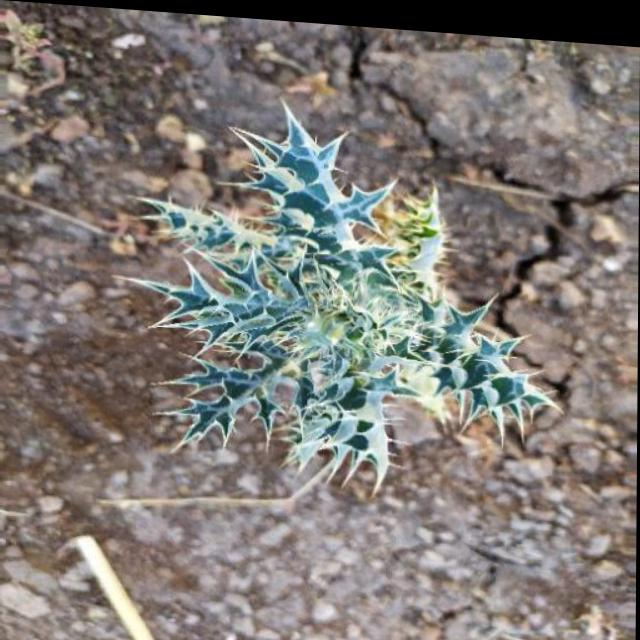weed: (130, 81, 562, 504)
